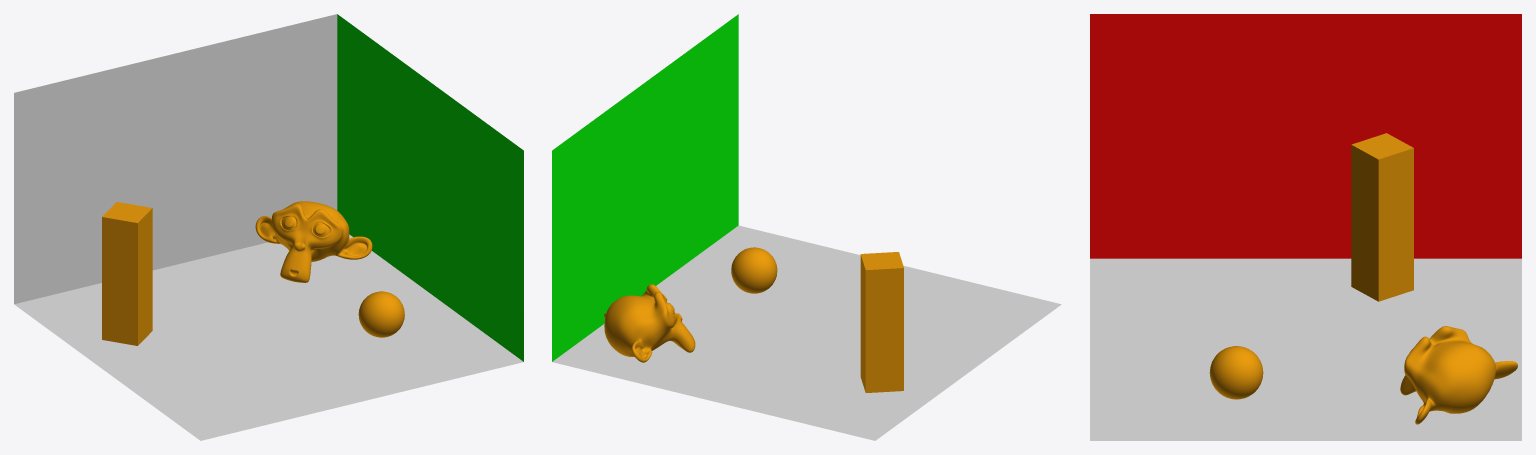
Rendered from acg.glb.
The picture shows the model from 3 angles, left to right: view 1: azimuth 30°, elevation 25°; view 2: azimuth 150°, elevation 25°; view 3: azimuth 270°, elevation 25°; orthographic projection. The views are drawn at different scales.
Visible parts, largest first — view 1: Box, Cube, Suzanne, Sphere; view 2: Box, Cube, Suzanne, Sphere; view 3: Box, Cube, Suzanne, Sphere.
Part boxes in pixels (<box>): Box: <box>14,14,523,440</box>; Cube: <box>102,202,152,345</box>; Suzanne: <box>255,201,372,282</box>; Sphere: <box>358,291,404,337</box>; Box: <box>552,14,1061,440</box>; Cube: <box>860,252,903,392</box>; Suzanne: <box>604,284,695,362</box>; Sphere: <box>731,247,777,293</box>; Box: <box>1090,14,1521,440</box>; Cube: <box>1351,133,1413,301</box>; Suzanne: <box>1400,326,1517,424</box>; Sphere: <box>1209,346,1263,399</box>.
Bounding box in the file's own units: 3.2 × 2 × 3.2.
